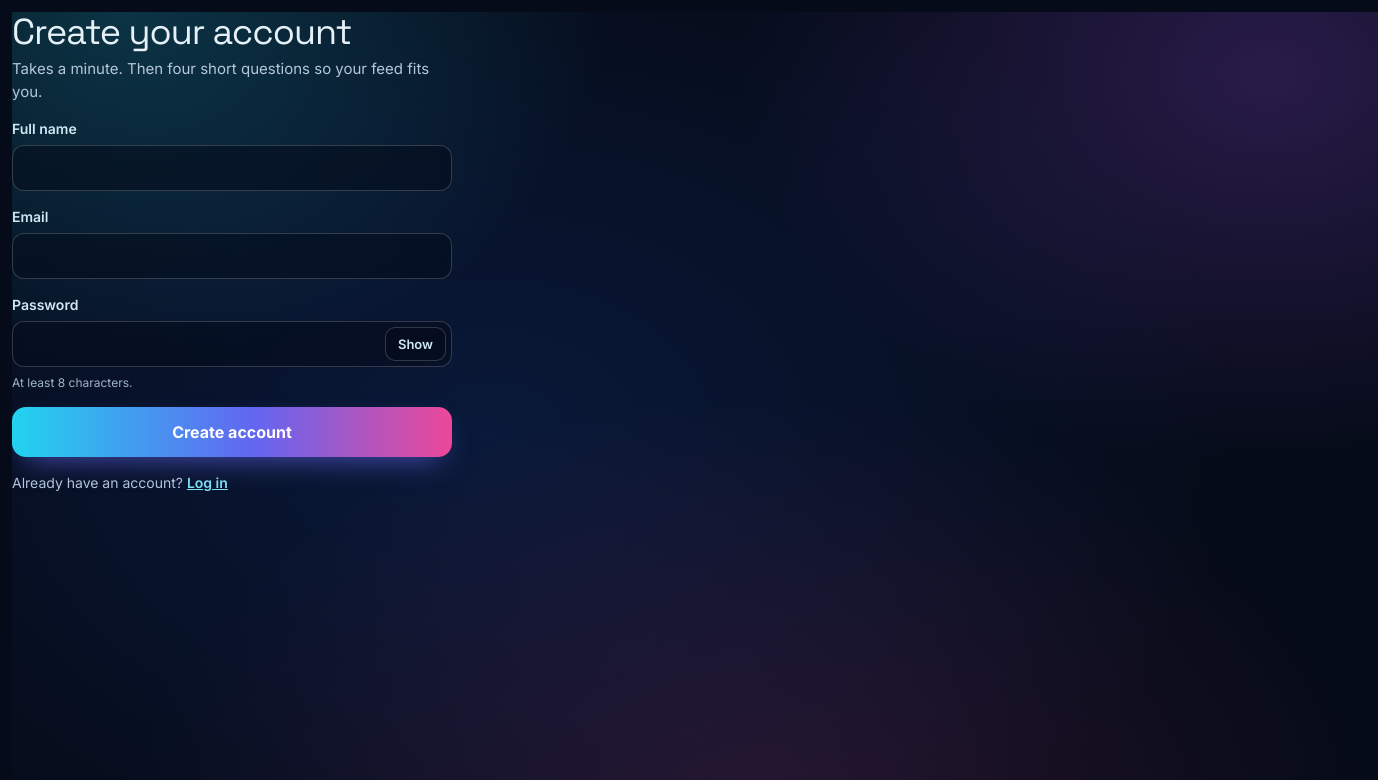
AuthForm with email confirmation (R1.1) › sign up shows Check your inbox instead of going to setup
The image size is (1378, 780).
In the field labelled "Full name": (232, 168) [12,145,452,191], type "Ana"
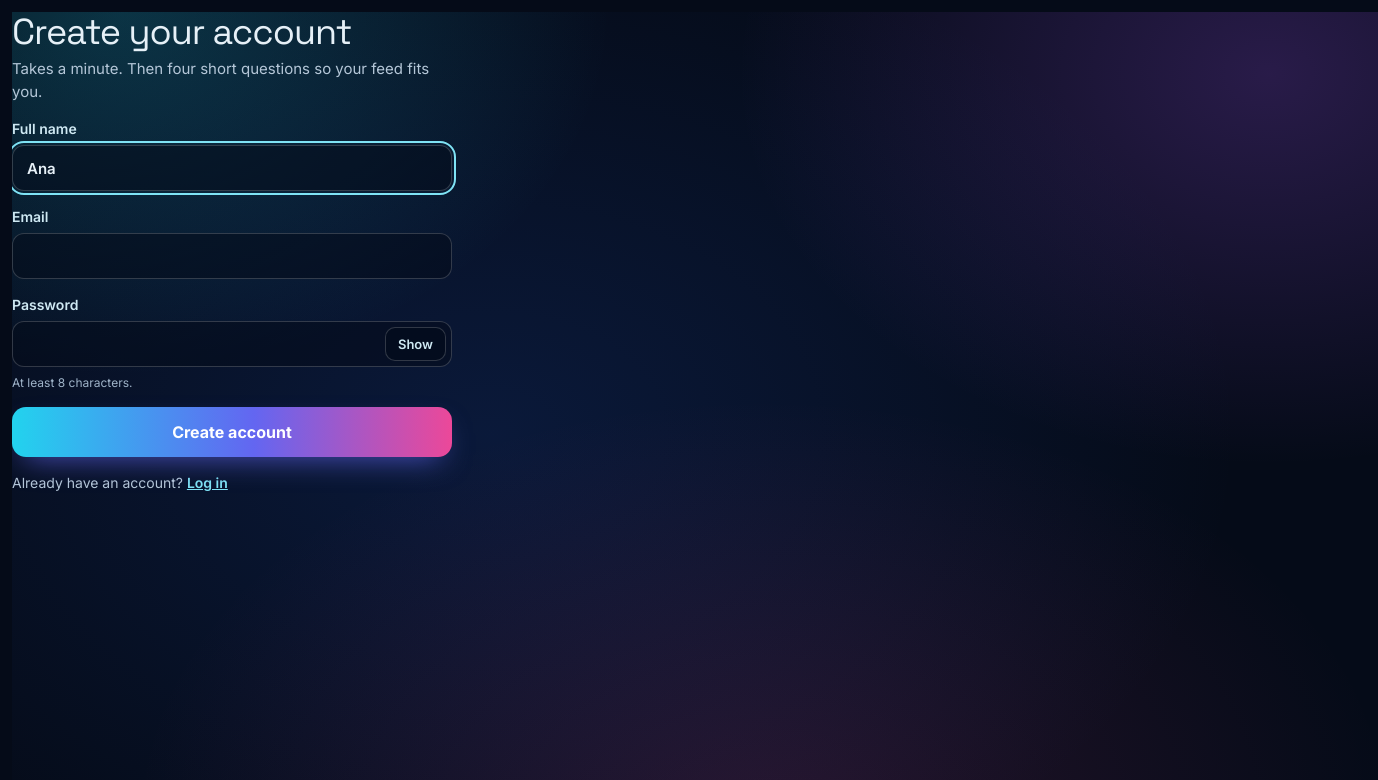
In the field labelled "Email": (232, 256) [12,233,452,279], type "ana@example.com"
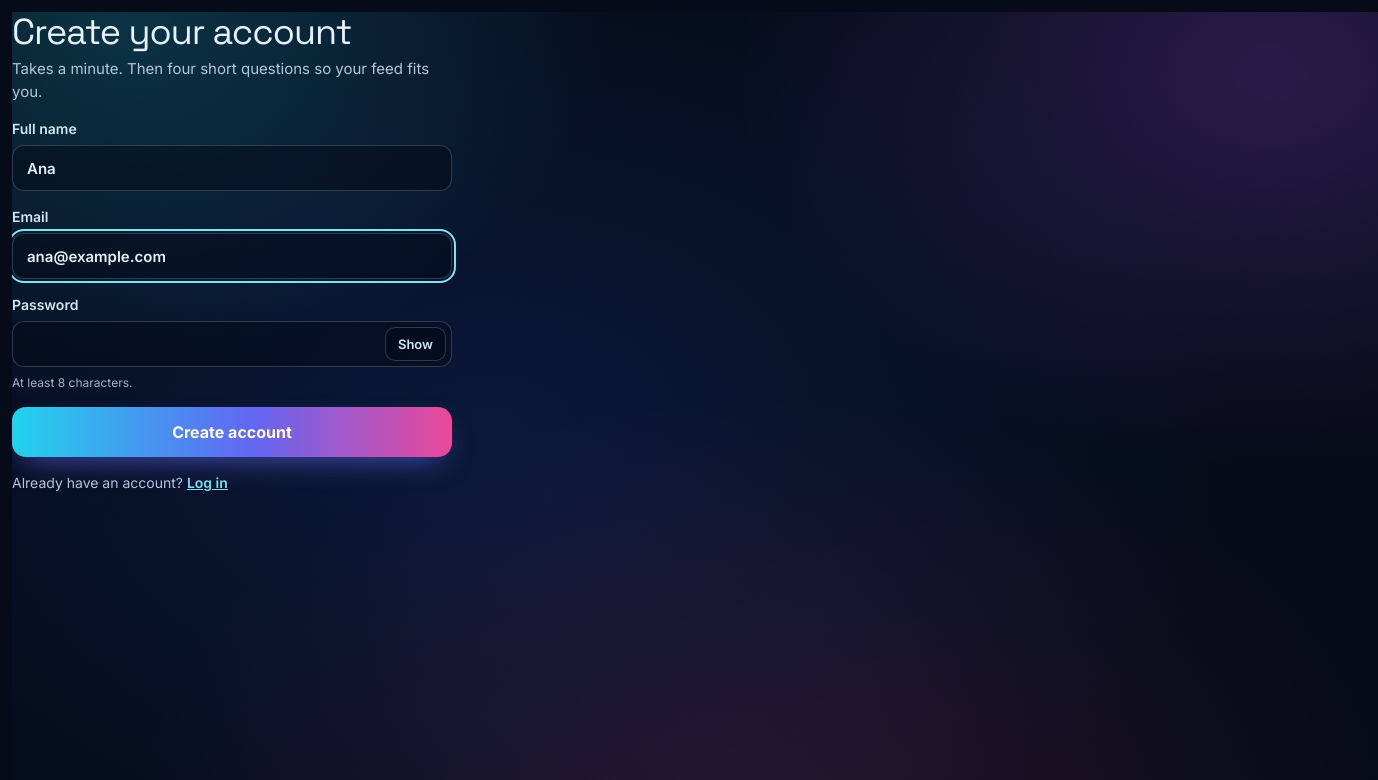
In the password field labelled "Password": (232, 344) [12,321,452,367], type "longenough1"
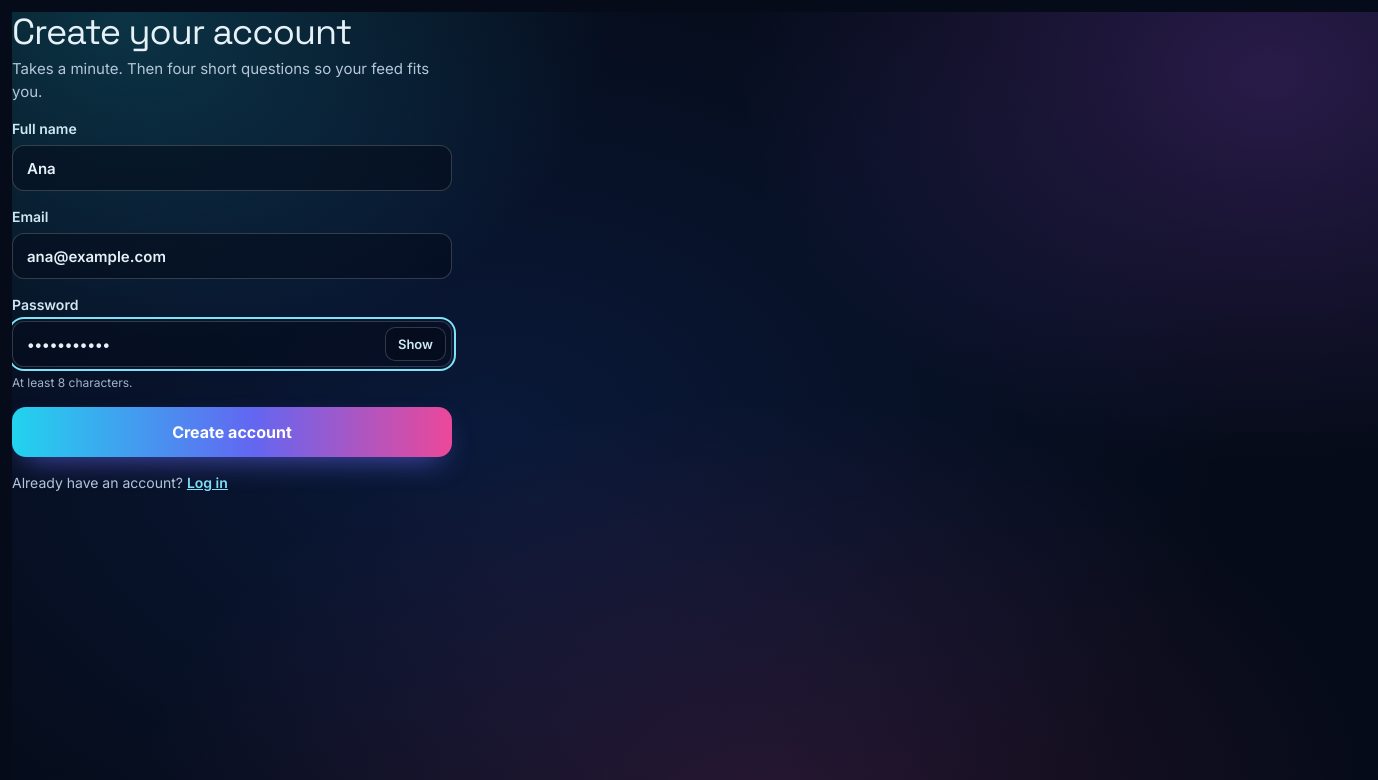
Click the button named "Create account": (232, 432) [12,407,452,457]
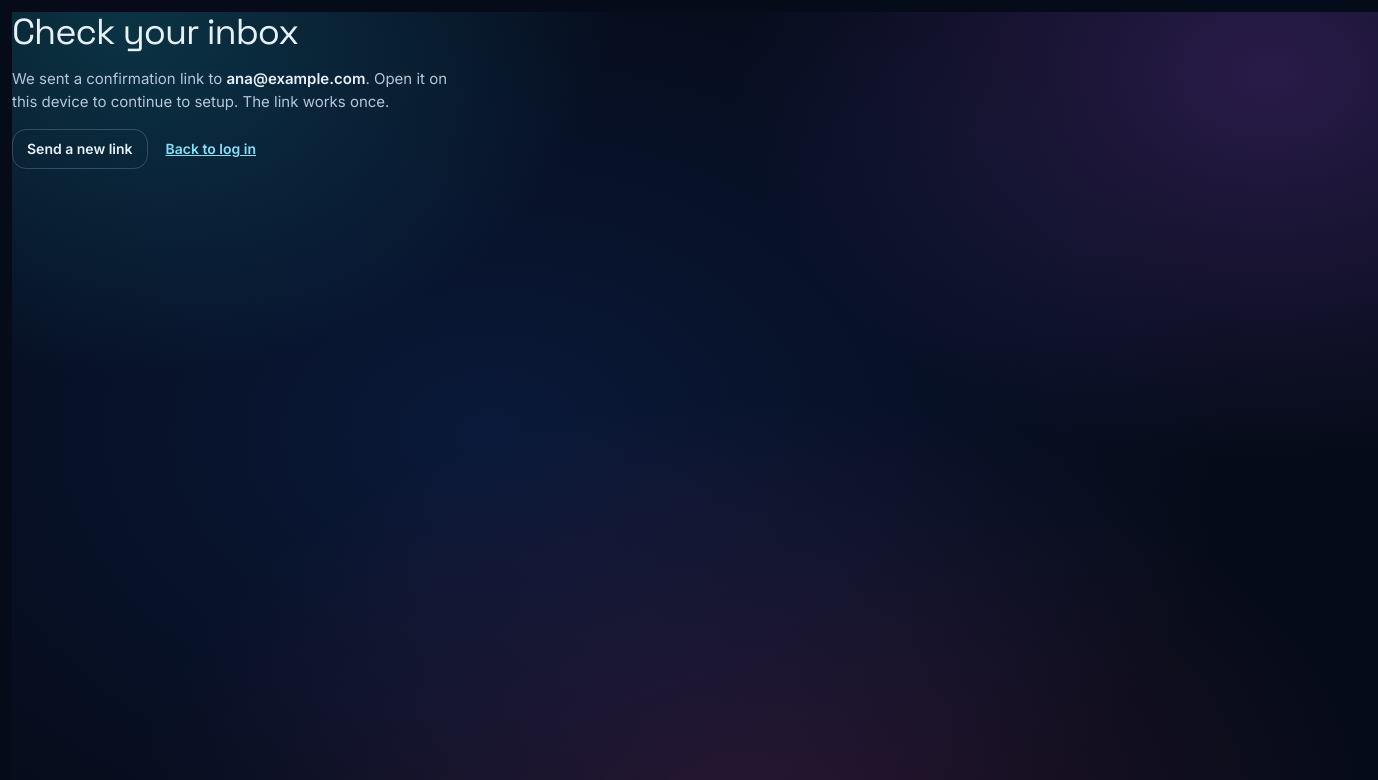
Now the text "ana@example.com" is shown, box [226,69,365,88]
